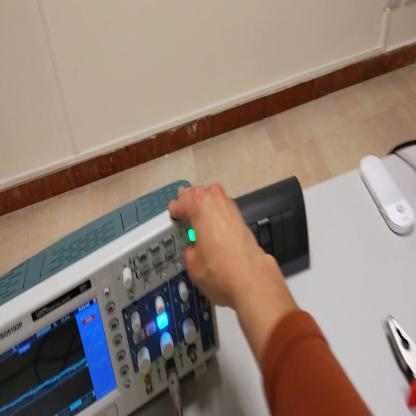hand: (168, 181, 263, 313)
oscilloscope: (1, 175, 220, 415)
pliers: (388, 313, 416, 408)
